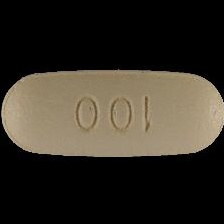0085-4324: (0, 0, 224, 224)
